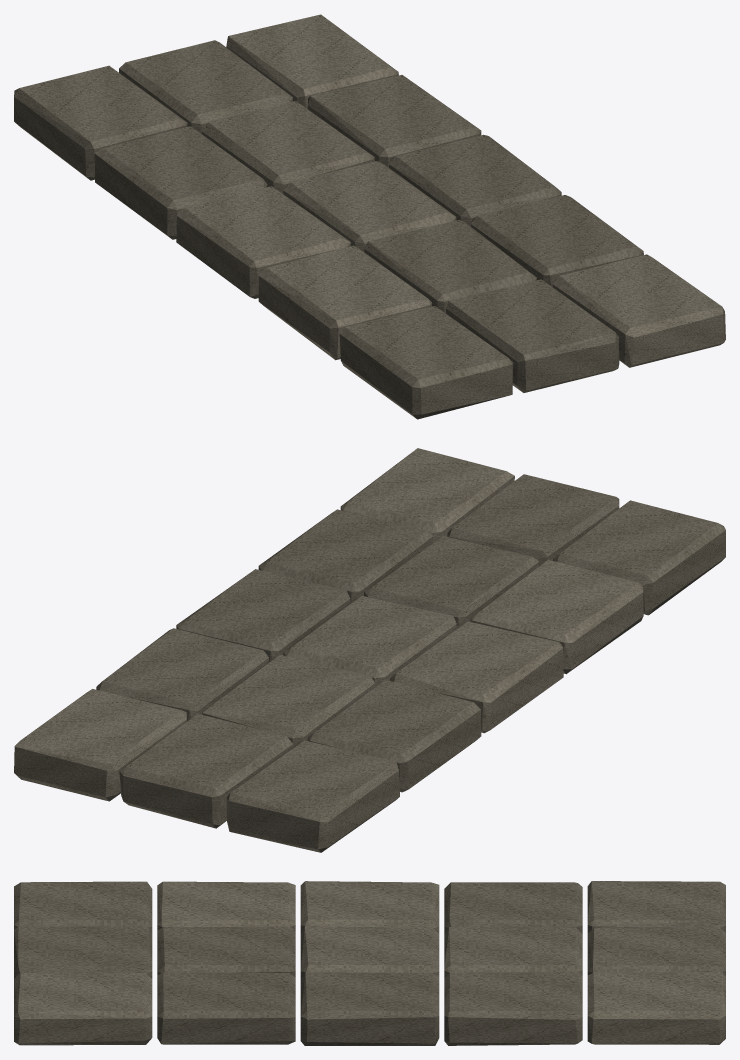
The model's file is env_ruin_surfaces_01_paving_narrow.glb.
The picture shows the model from 3 angles, top to bottom: view 1: azimuth 30°, elevation 25°; view 2: azimuth 150°, elevation 25°; view 3: azimuth 270°, elevation 25°; orthographic projection. The views are drawn at different scales.
Size of the model in its own units: 0.886 by 0.105 by 1.99.
1 material, 1 textured.
